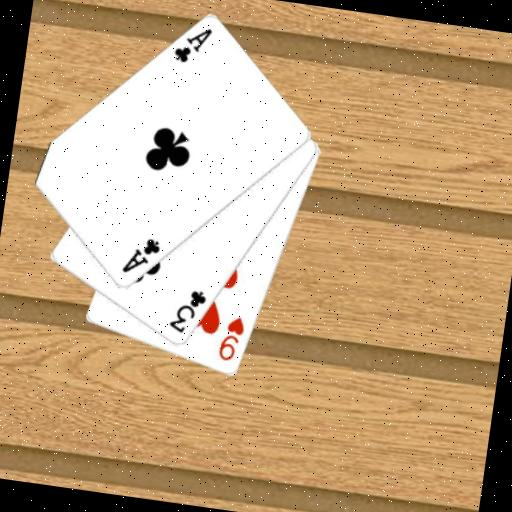3C: (165, 285, 210, 339)
9H: (215, 312, 249, 366)
AC: (118, 232, 164, 280), (169, 21, 215, 69)
